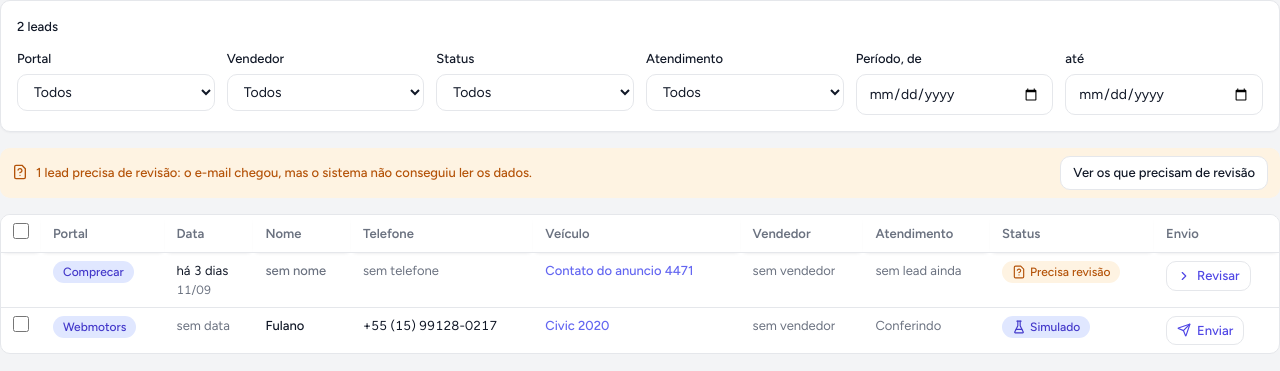
Test case: tela de leads: a fila de revisao mora aqui › o filtro de status isola quem precisa de revisao
Expected: the text "Fulano" is shown, [254,308,351,353]
Select "Precisa revisão" in the dropdown labelled "Status" at (535, 92), box [436,74,634,111]
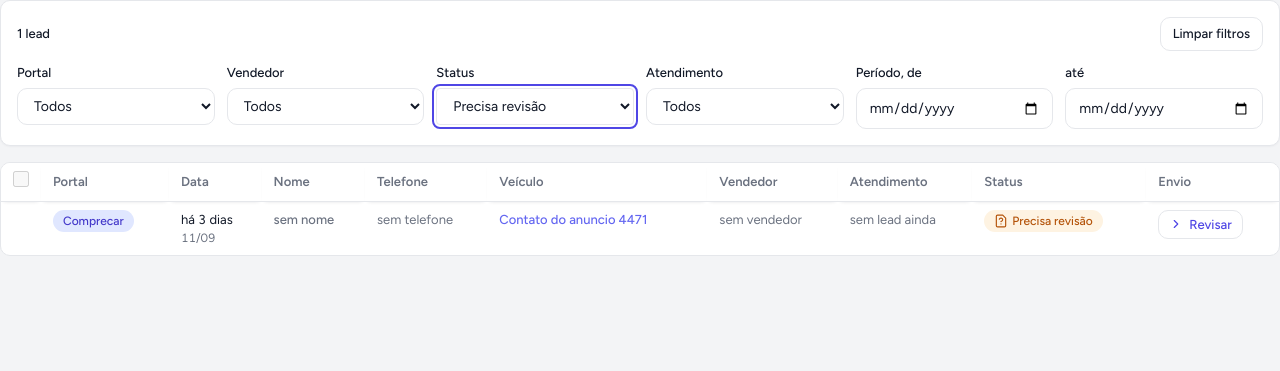
Expected: the text "Contato do anuncio 4471" is shown, [487,202,707,255]
Expected: the text "Fulano" is gone
